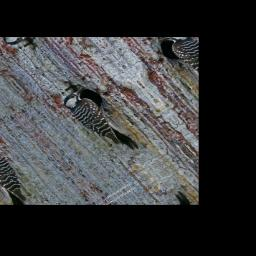Woodpecker: (56, 84, 142, 163)
